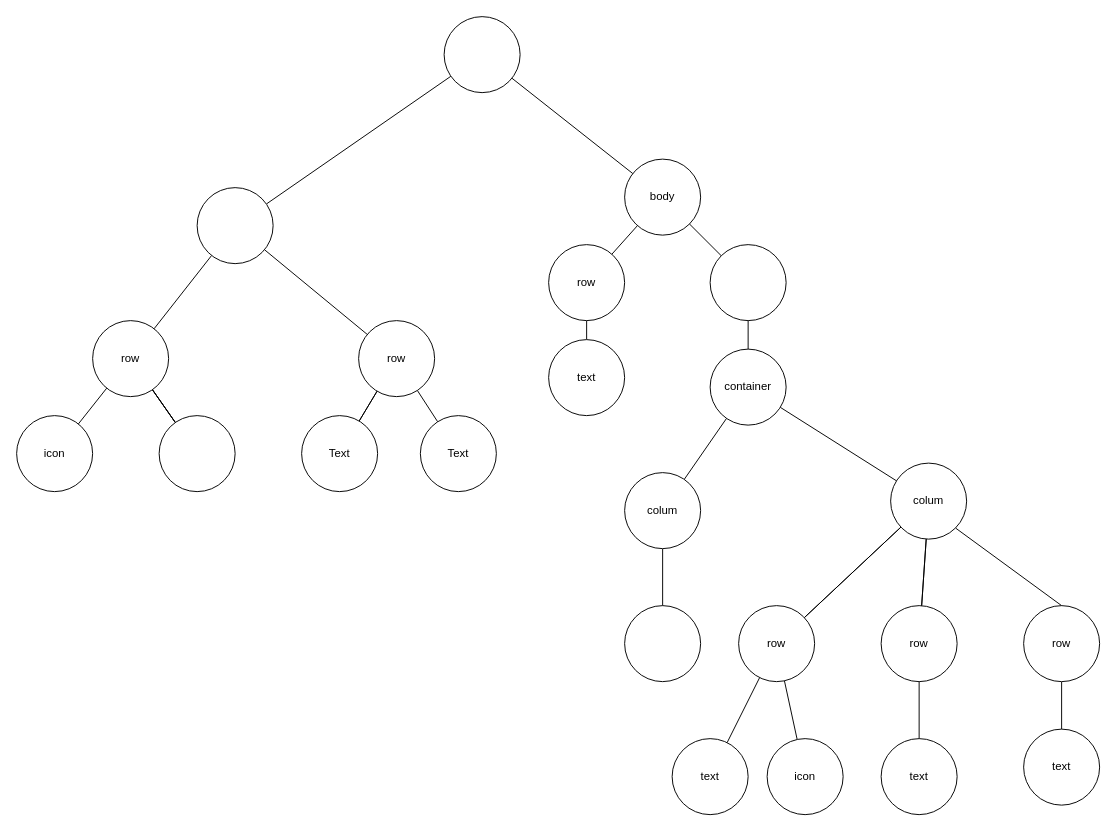
The diagram is 1116 pixels wide and 831 high, and some of its shapes have lost their labels. Here are the shapes that lost their labels. From the top down, the centre of each, then its label:
At (481,54): "page".
At (234,225): "hearder".
At (747,282): "rows".
At (196,453): "FiledText".
At (662,643): "picture".
